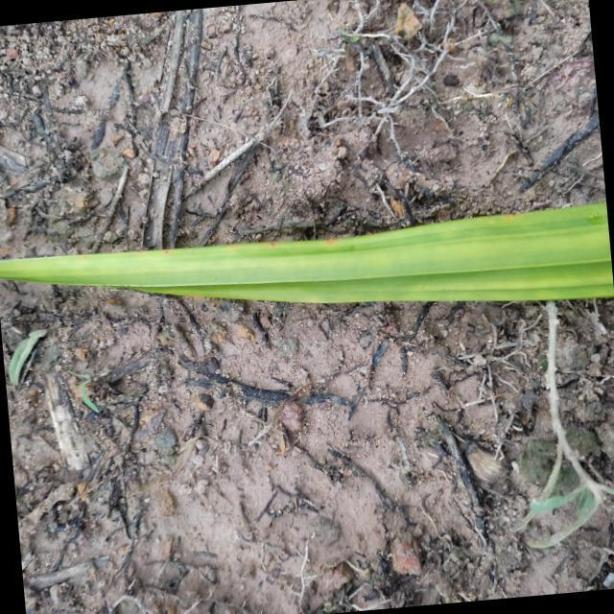nitrogen: (3, 200, 614, 302)
